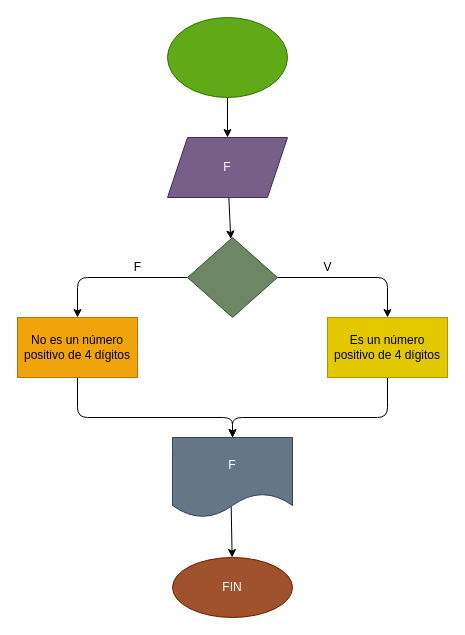
This 465x635 diagram has some shape labels left out. Here are the shapes that lost their labels. From the top down, the box of each, then its label:
(166, 16, 288, 98): INICIO
(186, 236, 278, 318): 900 < F >10000
